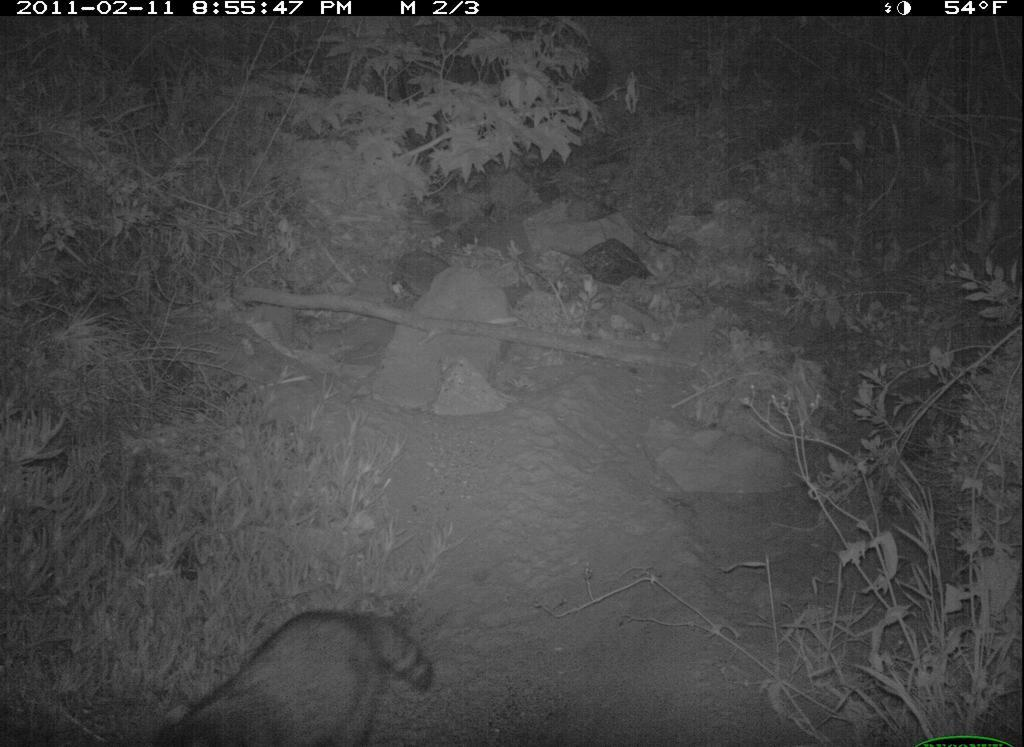raccoon: (145, 601, 442, 747)
